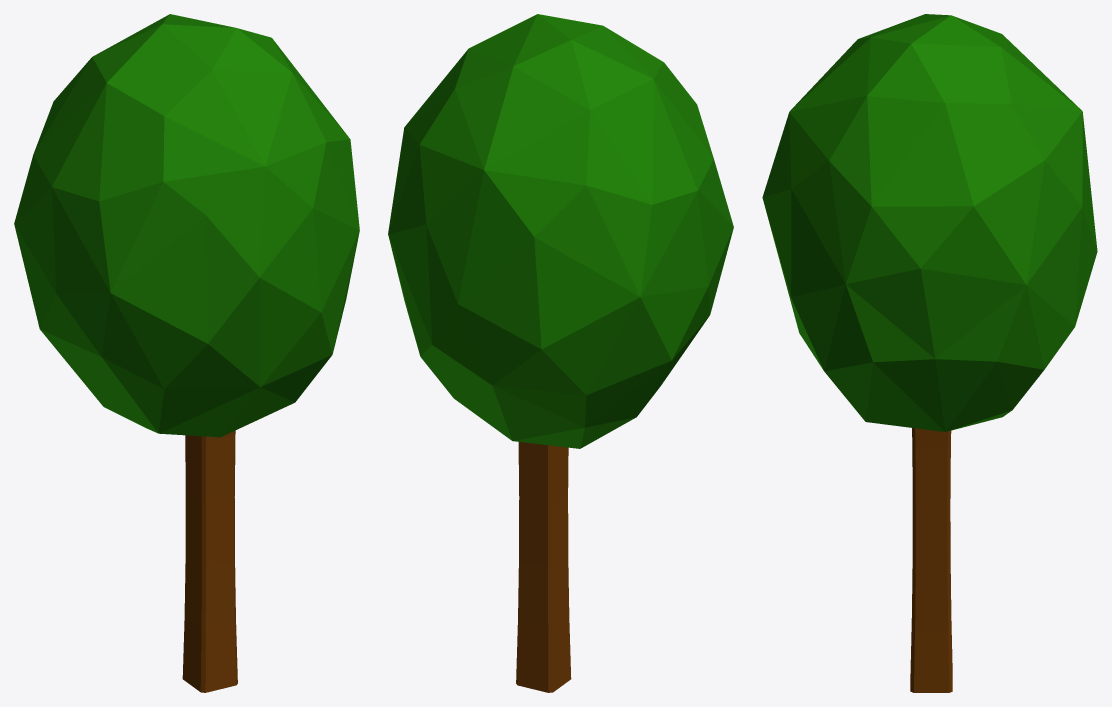
Rendered from tree2.fbx.
The picture shows the model from 3 angles, left to right: view 1: azimuth 30°, elevation 25°; view 2: azimuth 150°, elevation 25°; view 3: azimuth 270°, elevation 25°; orthographic projection.
Parts seen in each view (by area): view 1: Sphere, Cube; view 2: Sphere, Cube; view 3: Sphere, Cube.
Boxes of the visible parts, box(x1,y1,x2,y2) form: Sphere: box(14, 14, 359, 437); Cube: box(182, 430, 237, 692); Sphere: box(388, 14, 733, 448); Cube: box(516, 442, 571, 692); Sphere: box(762, 14, 1097, 431); Cube: box(910, 428, 952, 692).
Bounding box in the file's own units: 162 × 354 × 165.
